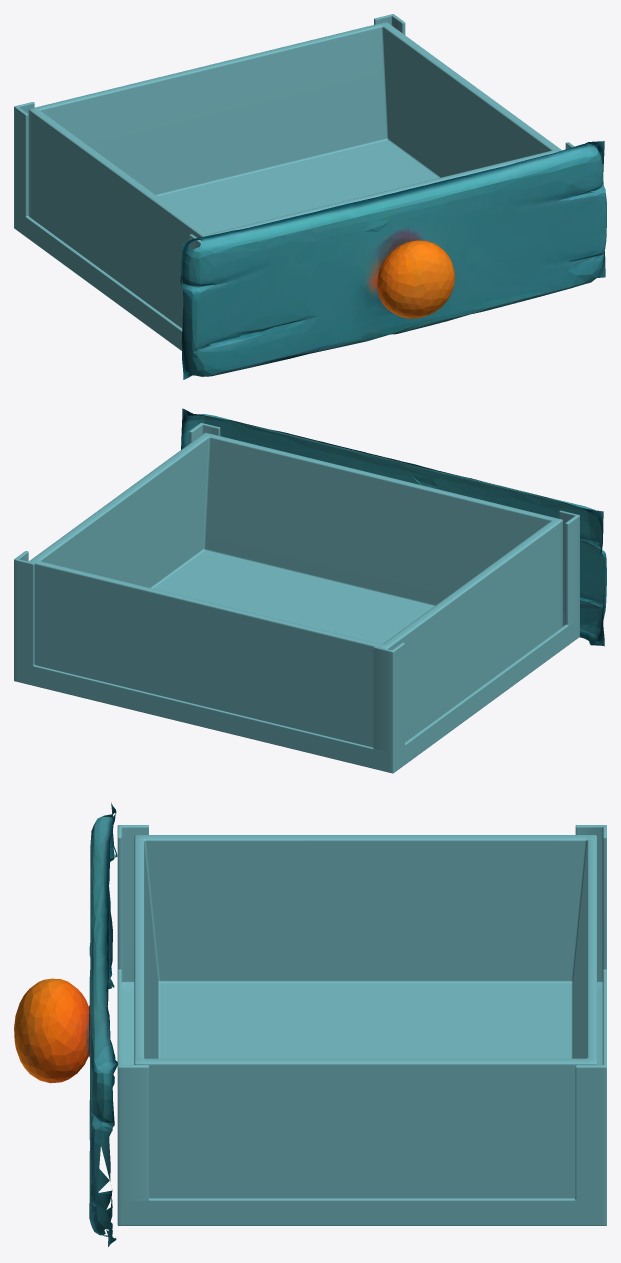
The model's file is drawer_bottom.glb.
The picture shows the model from 3 angles, top to bottom: view 1: azimuth 30°, elevation 25°; view 2: azimuth 150°, elevation 25°; view 3: azimuth 270°, elevation 25°; orthographic projection. The views are drawn at different scales.
Visible parts, largest first — view 1: prefab_drawer_body_1, source_front_cap_0; view 2: prefab_drawer_body_1, source_front_cap_0; view 3: prefab_drawer_body_1, source_front_cap_0.
Part boxes in pixels (box(x1,y1,x2,y2)): prefab_drawer_body_1: box(14, 14, 574, 350); source_front_cap_0: box(180, 141, 606, 379); prefab_drawer_body_1: box(14, 423, 579, 773); source_front_cap_0: box(181, 408, 606, 646); prefab_drawer_body_1: box(117, 825, 606, 1225); source_front_cap_0: box(14, 802, 117, 1246).
Bounding box in the file's own units: 0.1201 × 0.0369 × 0.1118.
2 materials, 1 textured.
